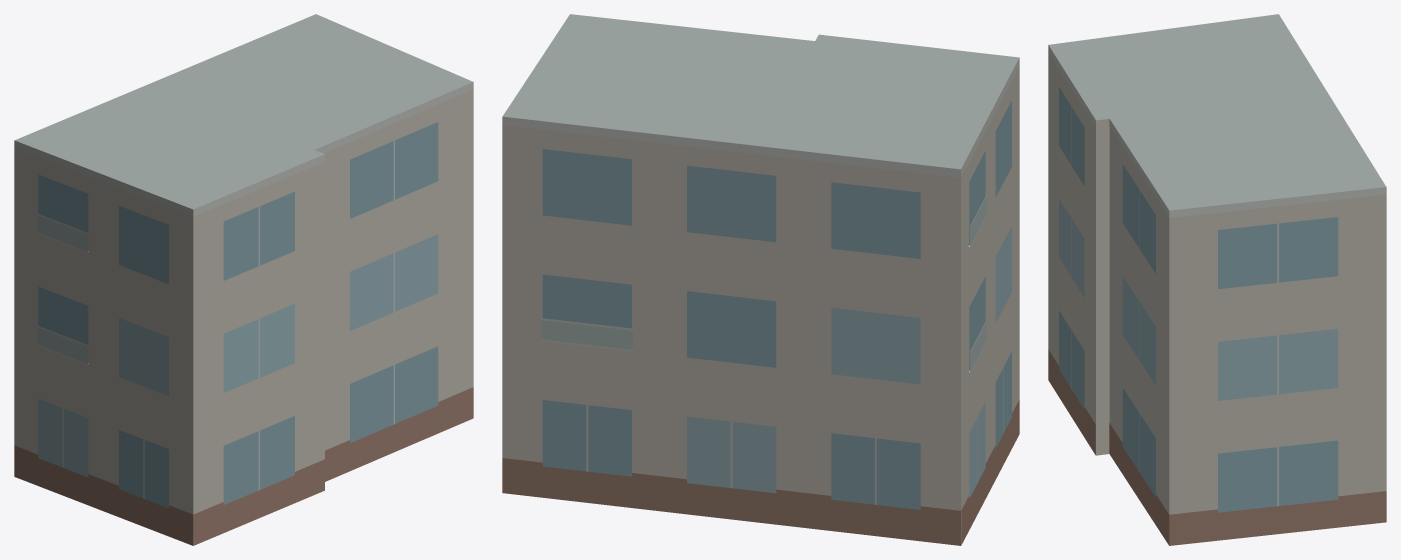
Rendered from survey-upis-32726171.glb.
3 renders of one model, left to right at view 1: azimuth 30°, elevation 25°; view 2: azimuth 150°, elevation 25°; view 3: azimuth 270°, elevation 25°, orthographic. The views are drawn at different scales.
Visible parts, largest first — view 1: survey-upis-32726171.tmp; view 2: survey-upis-32726171.tmp; view 3: survey-upis-32726171.tmp.
Boxes of the visible parts, box(x1,y1,x2,y2) form: survey-upis-32726171.tmp: box(14, 14, 473, 545); survey-upis-32726171.tmp: box(502, 14, 1019, 545); survey-upis-32726171.tmp: box(1048, 14, 1386, 545).
Size of the model in its own units: 13.72 by 10.9 by 9.97.
